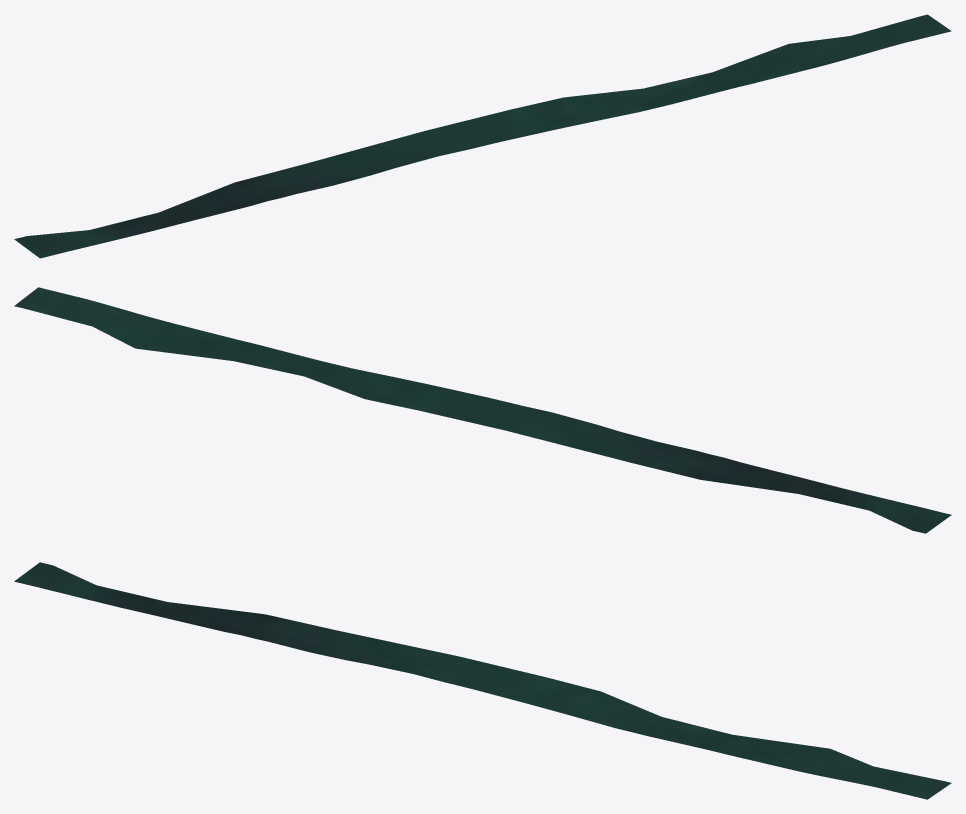
3 renders of one model, top to bottom at view 1: azimuth 30°, elevation 25°; view 2: azimuth 150°, elevation 25°; view 3: azimuth 330°, elevation 25°, orthographic.
Bounding box in the file's own units: 52.22 × 0.2951 × 3.3.
1 material, 1 textured.
